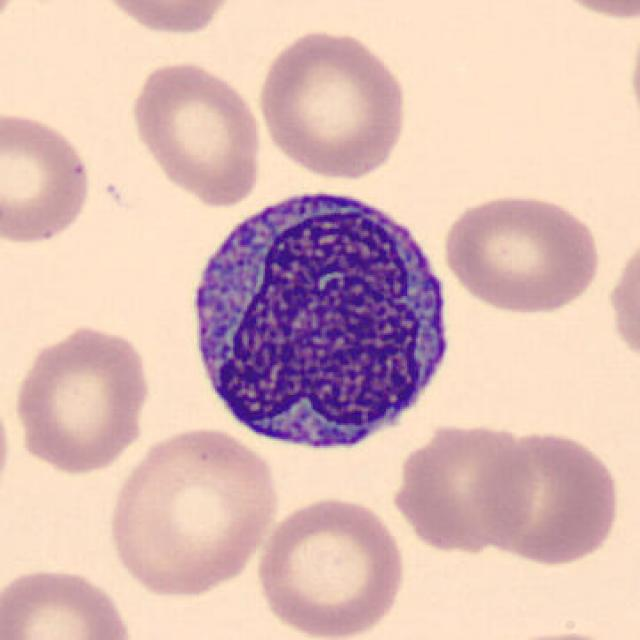Monocyte: (178, 175, 468, 469)
RBC: (101, 423, 283, 600), (252, 25, 412, 182), (252, 492, 409, 638), (9, 321, 156, 476), (439, 187, 605, 317), (125, 56, 266, 208), (475, 425, 622, 568), (388, 418, 540, 555), (0, 105, 96, 248), (0, 560, 138, 640), (89, 0, 243, 39), (604, 228, 640, 379), (533, 0, 640, 21)
